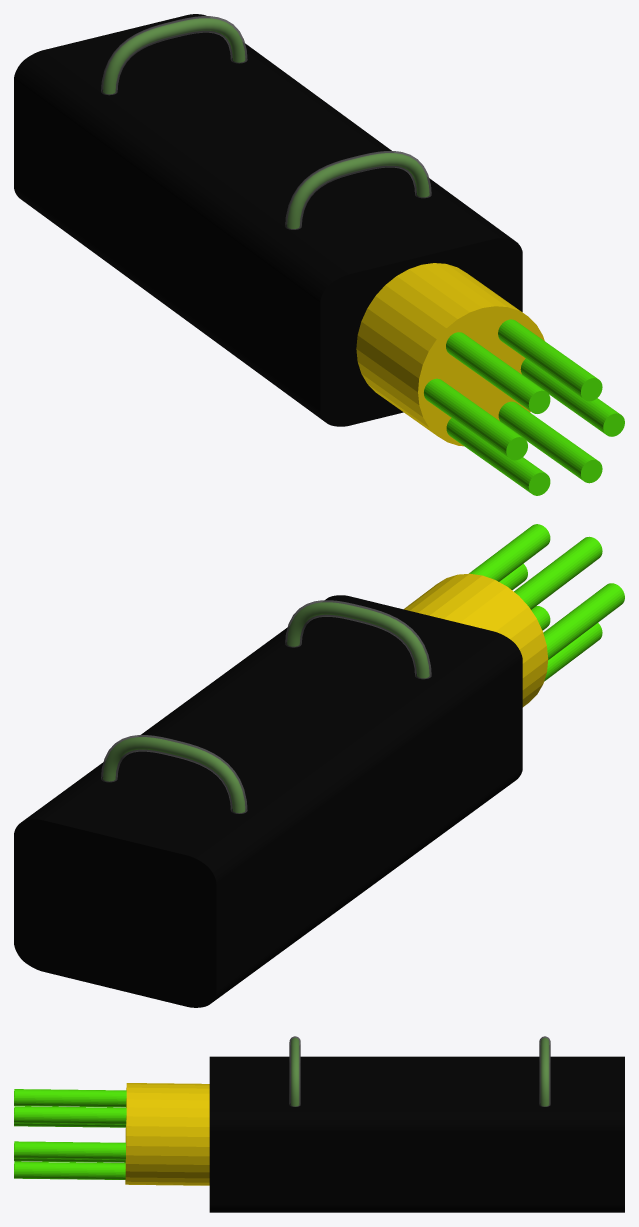
Rendered from Minigun.fbx.
3 views of the same model, one above another, from view 1: azimuth 30°, elevation 25°; view 2: azimuth 150°, elevation 25°; view 3: azimuth 270°, elevation 25° (orthographic). The views are drawn at different scales.
Parts seen in each view (by area): view 1: Cube, Cylinder, BézierCurve.002, BézierCurve.001, Cylinder.006, Cylinder.005, Cylinder.003, Cylinder.002, BézierCurve.004, BézierCurve.003, Cylinder.001, Cylinder.004; view 2: Cube, Cylinder, BézierCurve.002, BézierCurve.001, Cylinder.005, BézierCurve.003, Cylinder.003, BézierCurve.004, Cylinder.006, Cylinder.001; view 3: Cube, Cylinder, Cylinder.006, Cylinder.005, Cylinder.004, Cylinder.002, BézierCurve.002, BézierCurve.001, BézierCurve.004, BézierCurve.003, Cylinder.001, Cylinder.003.
Boxes of the visible parts, box(x1,y1,x2,y2) form: Cube: box(14, 14, 522, 426); Cylinder: box(356, 263, 544, 446); BézierCurve.002: box(285, 151, 431, 229); BézierCurve.001: box(101, 16, 247, 95); Cylinder.006: box(498, 319, 602, 401); Cylinder.005: box(446, 332, 550, 413); Cylinder.003: box(424, 378, 527, 460); Cylinder.002: box(498, 401, 602, 483); BézierCurve.004: box(287, 153, 429, 228); BézierCurve.003: box(103, 18, 244, 93); Cylinder.001: box(446, 418, 550, 495); Cylinder.004: box(520, 358, 624, 436); Cube: box(14, 595, 522, 1007); Cylinder: box(404, 573, 548, 707); BézierCurve.002: box(285, 600, 431, 679); BézierCurve.001: box(101, 735, 247, 813); Cylinder.005: box(514, 536, 602, 609); BézierCurve.003: box(103, 737, 244, 812); Cylinder.003: box(543, 583, 624, 659); BézierCurve.004: box(287, 602, 429, 677); Cylinder.006: box(469, 524, 550, 581); Cylinder.001: box(544, 623, 602, 681); Cube: box(209, 1056, 624, 1212); Cylinder: box(125, 1083, 209, 1185); Cylinder.006: box(14, 1106, 126, 1124); Cylinder.005: box(14, 1089, 126, 1107); Cylinder.004: box(14, 1141, 125, 1159); Cylinder.002: box(14, 1161, 125, 1179); BézierCurve.002: box(289, 1036, 300, 1106); BézierCurve.001: box(539, 1036, 550, 1106); BézierCurve.004: box(291, 1038, 298, 1106); BézierCurve.003: box(541, 1038, 548, 1106); Cylinder.001: box(14, 1158, 125, 1162); Cylinder.003: box(14, 1123, 125, 1127).
Size of the model in its own units: 280 by 271 by 1078.
